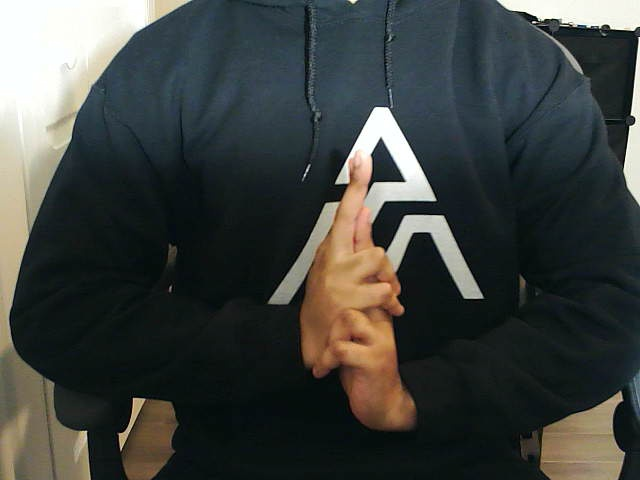Ram: (302, 150, 420, 432)
